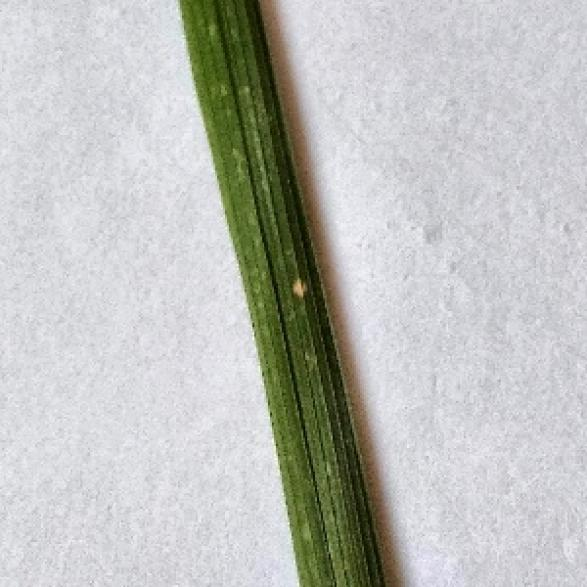Leaf_smut: (270, 266, 317, 315)
